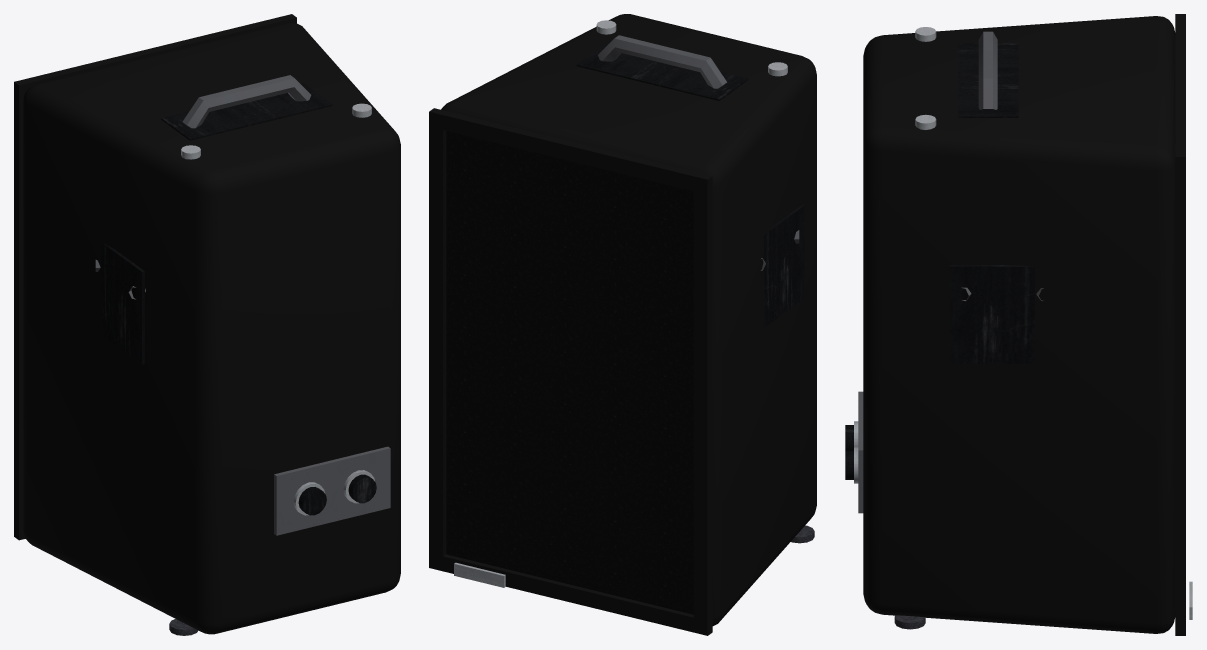
Rendered from top_13xt.gltf.
3 views of the same model, side by side, from view 1: azimuth 30°, elevation 25°; view 2: azimuth 150°, elevation 25°; view 3: azimuth 270°, elevation 25° (orthographic). The views are drawn at different scales.
Parts seen in each view (by area): view 1: top_13xt; view 2: top_13xt; view 3: top_13xt.
Boxes of the visible parts, x1,y1,x2,y2 form: top_13xt: (14, 14, 400, 635); top_13xt: (429, 14, 816, 635); top_13xt: (845, 14, 1192, 635).
Size of the model in its own units: 0.3928 by 0.6576 by 0.401.
6 materials, 6 textured.
